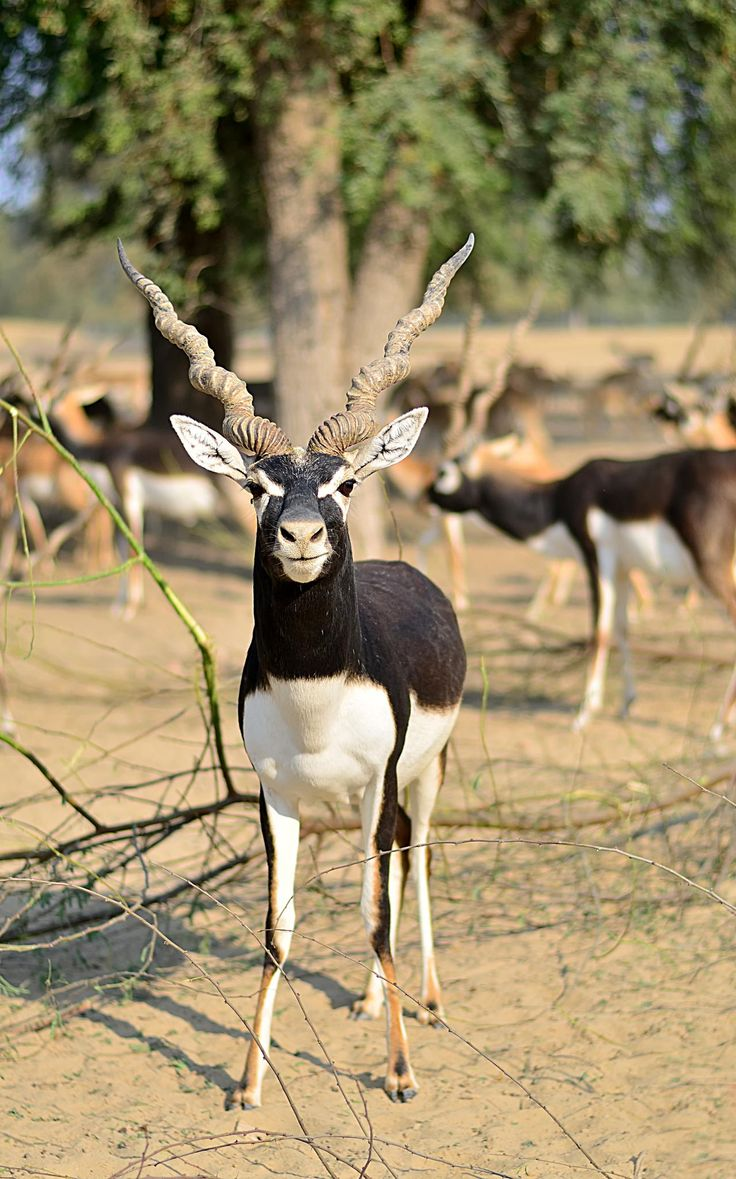Blackbuck: (127, 235, 484, 1111), (416, 429, 736, 737)
